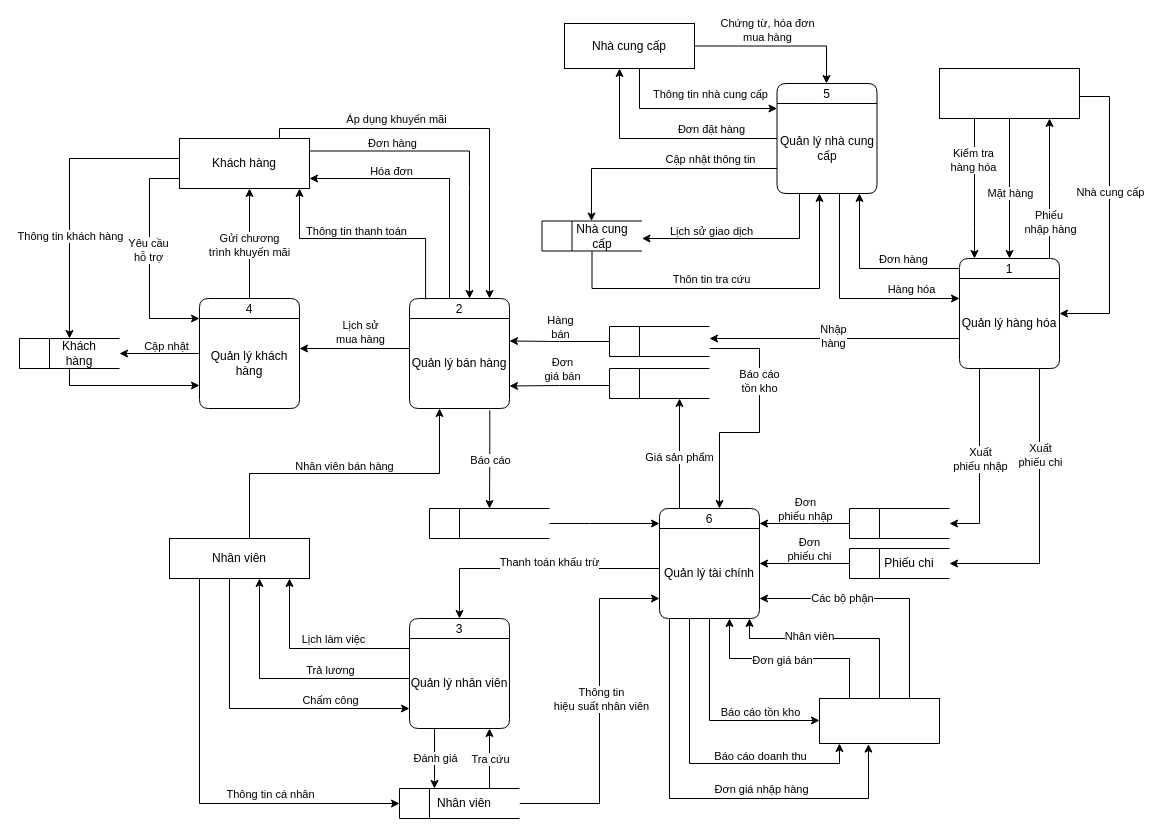
Some shapes in this 1161 by 836 pixel diagram are drawn without their labels. The box of each missing label's shape, as (x1, y1, x2, y2) in pixels:
Bộ phận nhập hàng: (938, 68, 1080, 118)
Bộ phận quản lý: (818, 698, 940, 744)
Doanh thu: (428, 508, 550, 538)
Giá bán: (608, 368, 710, 398)
Kho hàng: (608, 326, 710, 356)
Phiếu nhập: (848, 508, 950, 538)
